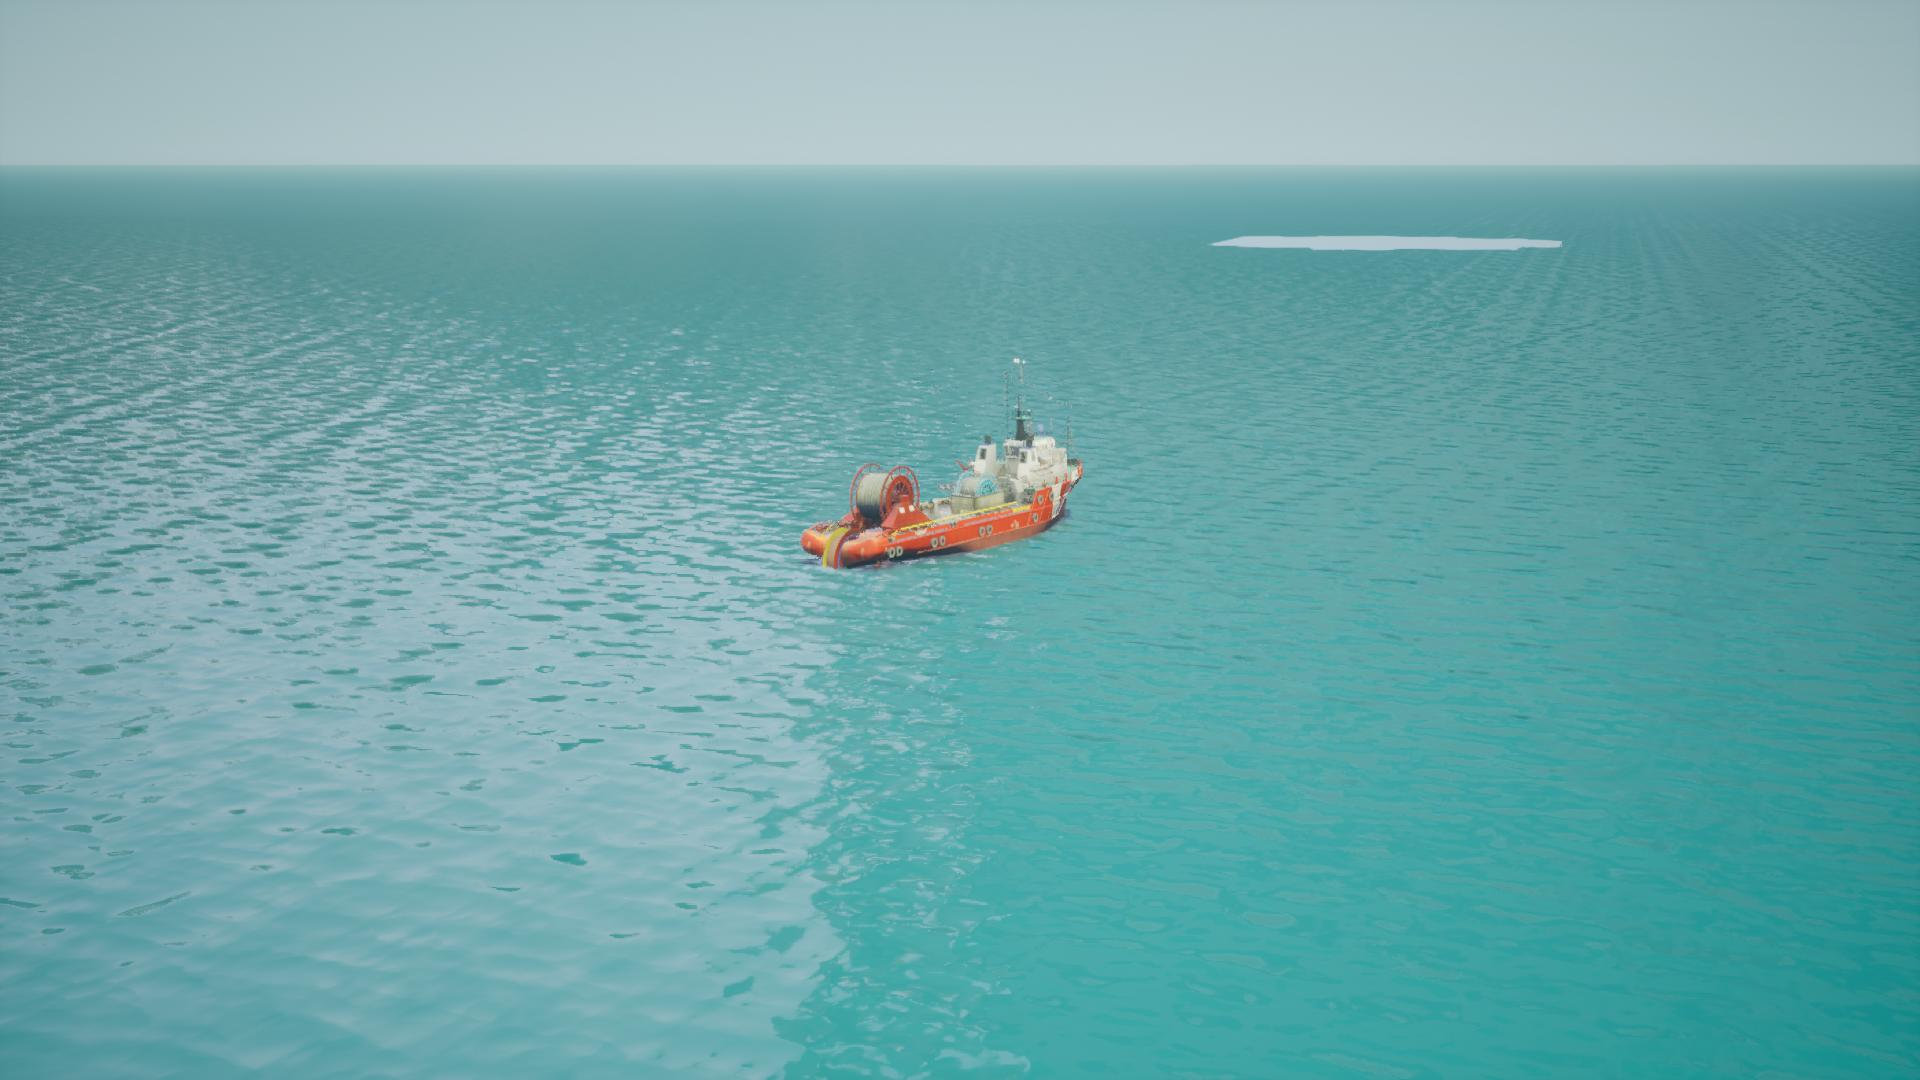Tug Boat: (803, 351, 1088, 575)
